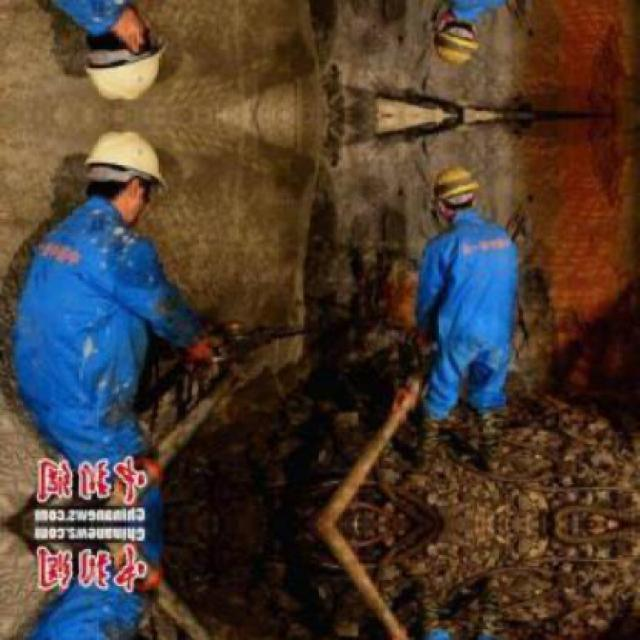helmet: (81, 126, 174, 230), (81, 3, 174, 106), (434, 12, 478, 65), (434, 167, 478, 219)
